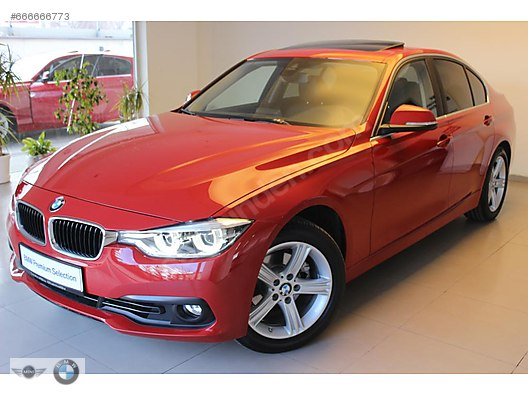bmw: (5, 35, 520, 356)
